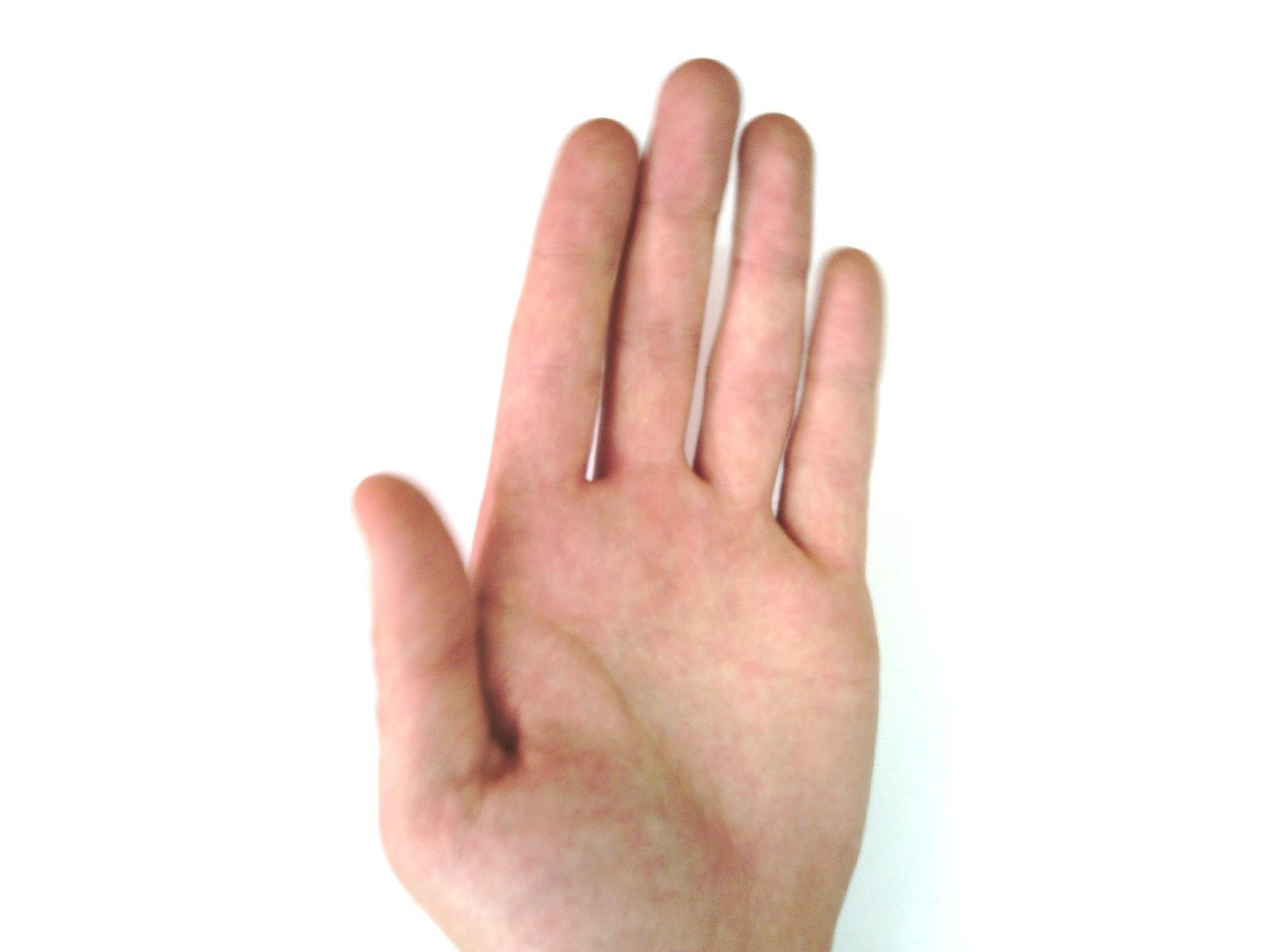open_palm: (350, 57, 891, 950)
